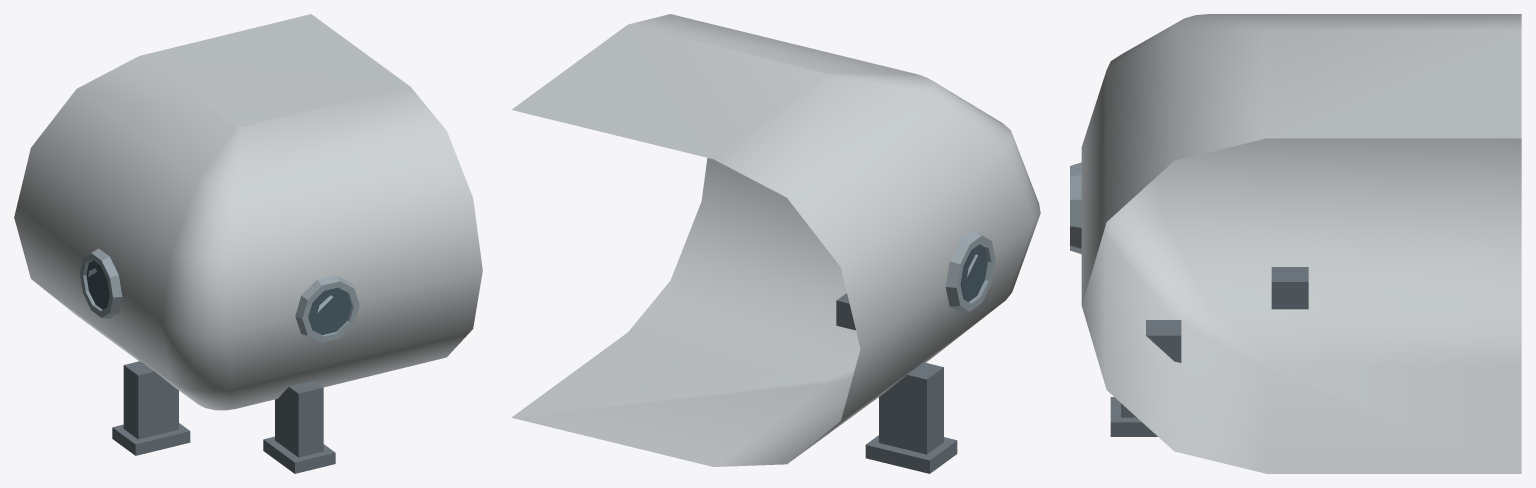
Rendered from pressure_021.glb.
The picture shows the model from 3 angles, left to right: view 1: azimuth 30°, elevation 25°; view 2: azimuth 150°, elevation 25°; view 3: azimuth 270°, elevation 25°; orthographic projection. The views are drawn at different scales.
Parts seen in each view (by area): view 1: Pressure_Shell.051, Support.139, Support.138, Porthole_Rim.075, Porthole_Rim.076, Gas_Window.075, Window_Glass.075, Footplate.139, Footplate.138, Window_Glass.076, Gas_Window.076; view 2: Pressure_Shell.051, Support.139, Porthole_Rim.076, Footplate.139, Window_Glass.076, Gas_Window.076; view 3: Pressure_Shell.051, Support.139, Support.138, Porthole_Rim.075, Footplate.138.
Part boxes in pixels (x1,y1,x2,y2): Pressure_Shell.051: (14,14,482,410); Support.139: (123,361,178,439); Support.138: (275,380,323,457); Porthole_Rim.075: (295,275,359,342); Porthole_Rim.076: (80,248,122,318); Gas_Window.075: (308,287,351,334); Window_Glass.075: (309,289,352,335); Footplate.139: (112,423,190,455); Footplate.138: (263,436,335,473); Window_Glass.076: (84,261,108,309); Gas_Window.076: (86,260,109,309); Pressure_Shell.051: (511,14,1040,466); Support.139: (879,362,943,454); Porthole_Rim.076: (945,230,995,312); Footplate.139: (865,435,957,473); Window_Glass.076: (961,244,990,302); Gas_Window.076: (960,244,987,301); Pressure_Shell.051: (1081,14,1521,473); Support.139: (1271,267,1308,309); Support.138: (1121,320,1181,417); Porthole_Rim.075: (1070,162,1081,253); Footplate.138: (1110,397,1157,436).
Size of the model in its own units: 1.95 by 1.83 by 1.95.
